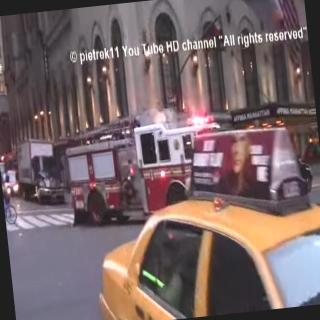Fire_truck: (61, 102, 229, 229)
